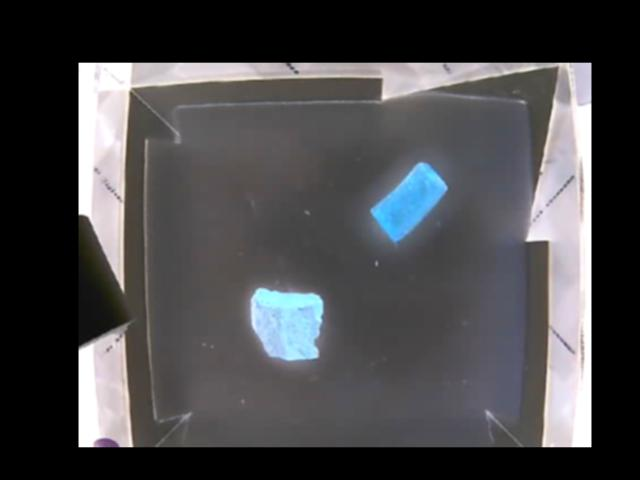Brisk: (248, 287, 323, 359)
Carrot: (369, 161, 447, 243)
